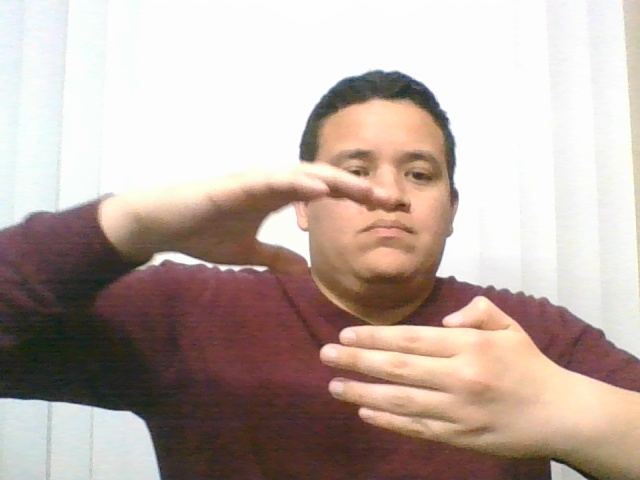To Study: (74, 133, 587, 472)
